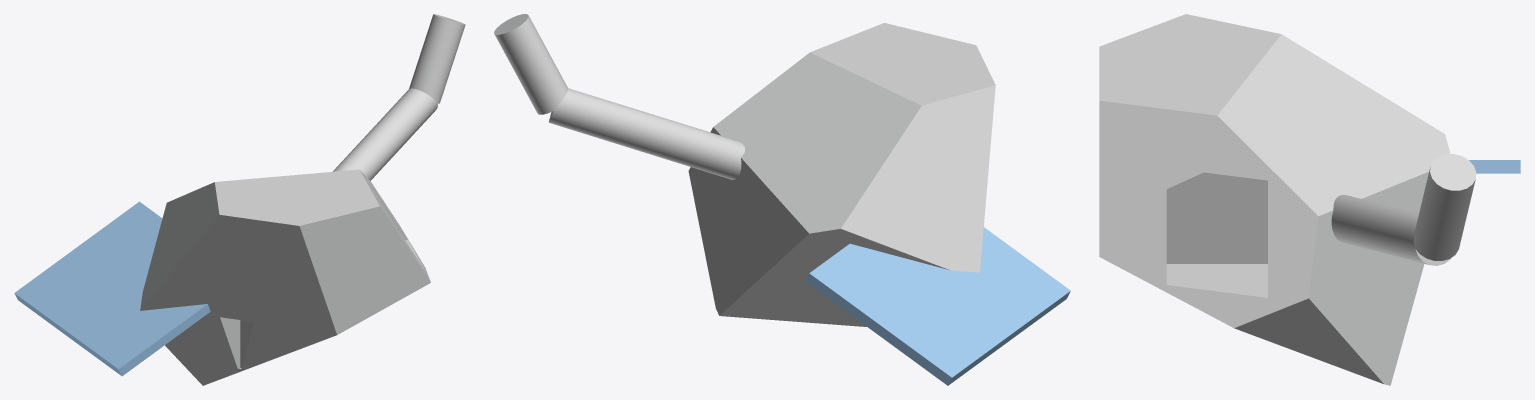
The model's file is debris-fragment.glb.
3 views of the same model, side by side, from view 1: azimuth 30°, elevation 25°; view 2: azimuth 150°, elevation 25°; view 3: azimuth 270°, elevation 25° (orthographic). The views are drawn at different scales.
Visible parts, largest first — view 1: debris-fragment-body, debris-fragment-cell; view 2: debris-fragment-body, debris-fragment-cell; view 3: debris-fragment-body, debris-fragment-cell.
Boxes of the visible parts, x1,y1,x2,y2 form: debris-fragment-body: (140,14,465,385); debris-fragment-cell: (14,201,210,376); debris-fragment-body: (494,14,995,326); debris-fragment-cell: (805,227,1070,385); debris-fragment-body: (1099,14,1476,385); debris-fragment-cell: (1469,160,1520,173).
Size of the model in its own units: 0.3994 by 0.2245 by 0.25.
